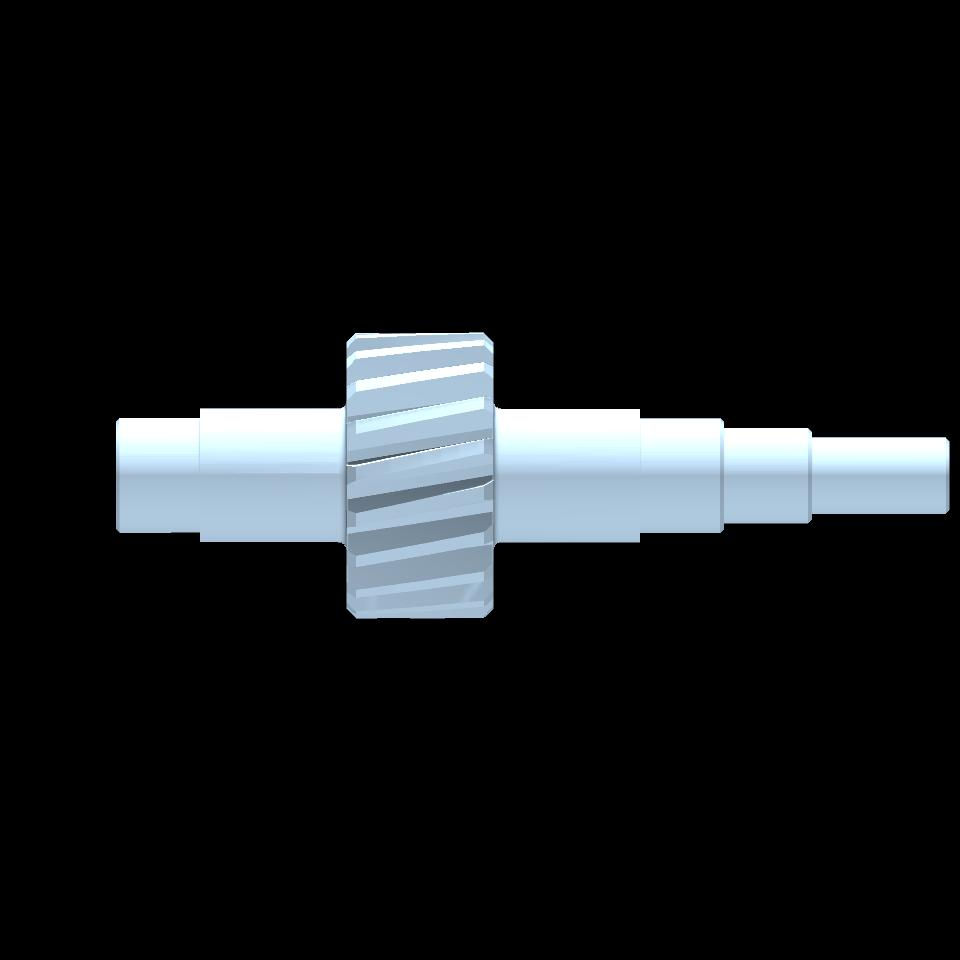Helical: (355, 332, 485, 618)
